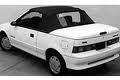car: (1, 6, 120, 77)
